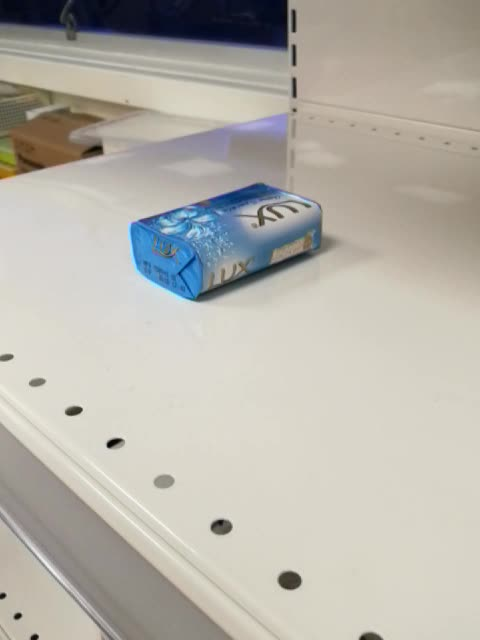soap: (126, 180, 326, 303)
